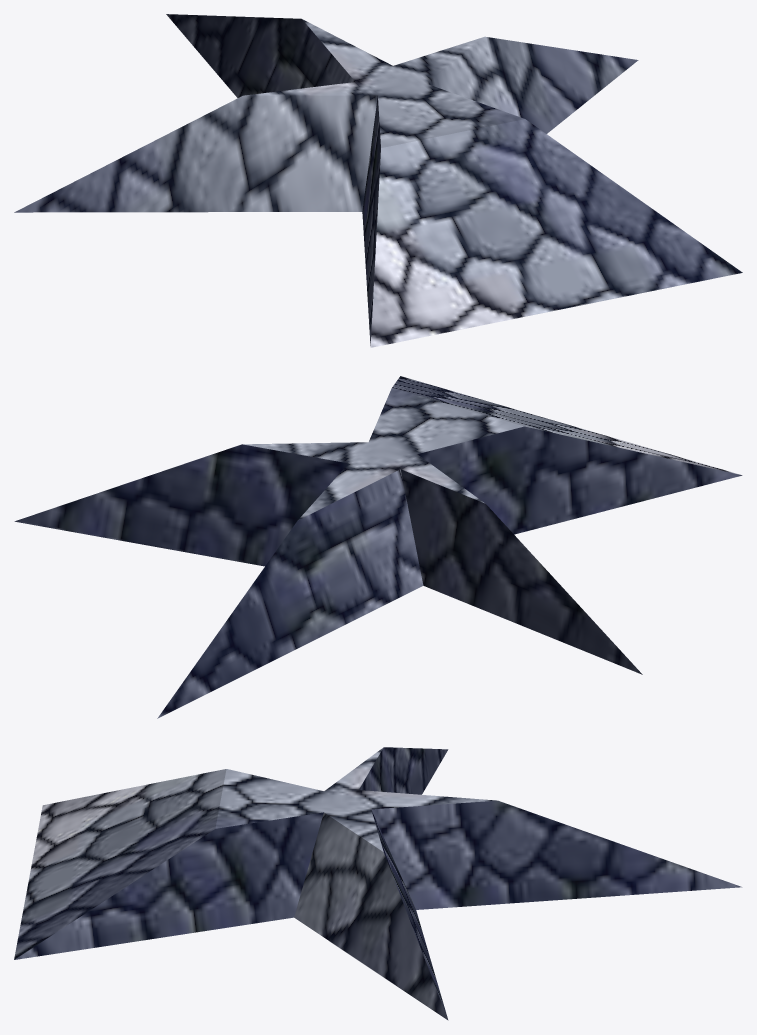
Rendered from star.obj.
3 views of the same model, one above another, from view 1: azimuth 30°, elevation 25°; view 2: azimuth 150°, elevation 25°; view 3: azimuth 270°, elevation 25° (orthographic). The views are drawn at different scales.
Visible parts, largest first — view 1: Plane; view 2: Plane; view 3: Plane.
Part boxes in pixels (x1,y1,x2,y2): Plane: (14,14,742,347); Plane: (14,376,742,718); Plane: (14,747,742,1020).
Bounding box in the file's own units: 3.79 × 0.5597 × 4.31.
